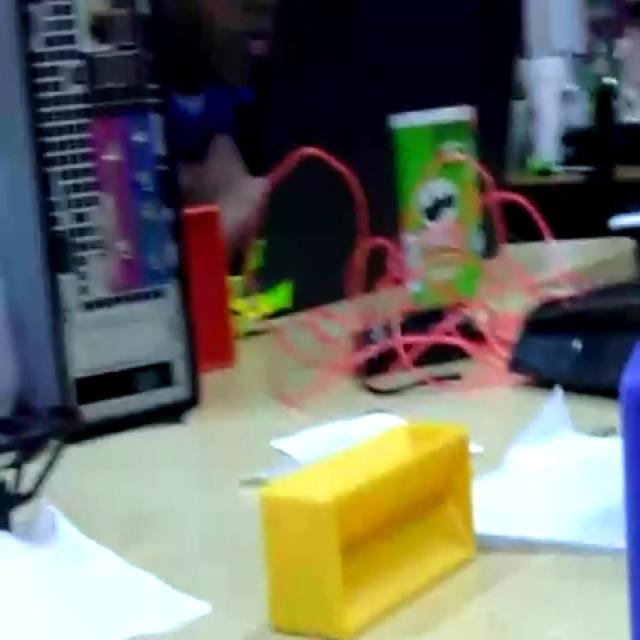red_block: (179, 200, 236, 373)
yellow_block: (258, 417, 477, 636)
